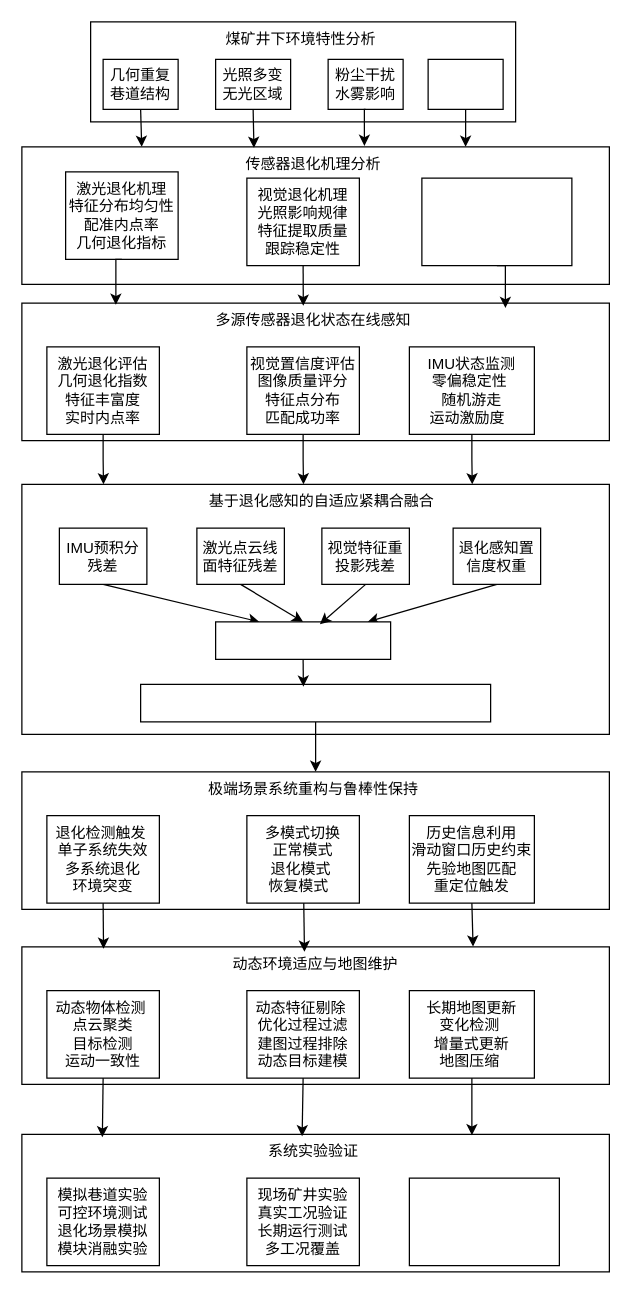
This 631x1294 diagram has some shape labels left out. The shapes that lost their labels are listed below. From the top down, each one's centre as x and y in pixels, then its label:
At (465,83): "动态物体 人员设备".
At (496,221): "多源信息一致性分析 IMU零偏稳定性评估 传感器间一致性检验 故障检测与隔离".
At (302,640): "加权最小二乘优化".
At (315,702): "滑动窗口管理与边缘化".
At (483,1221): "性能评估与对比 精度指标(ATE/RPE) 鲁棒性指标(失效率) 实时性指标(处理时间)".
